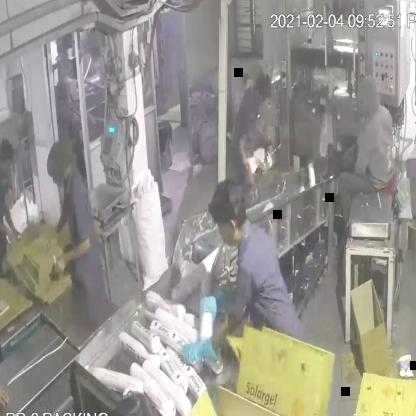glove: (179, 336, 222, 374), (200, 284, 235, 324)
no_glove: (50, 228, 91, 277), (236, 134, 260, 184)
